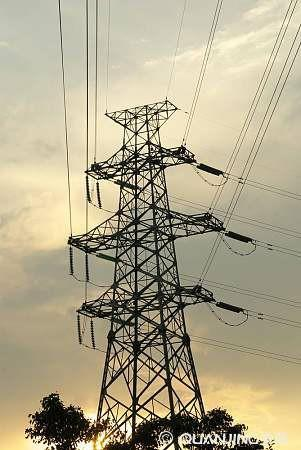power_tower: (78, 83, 231, 436)
